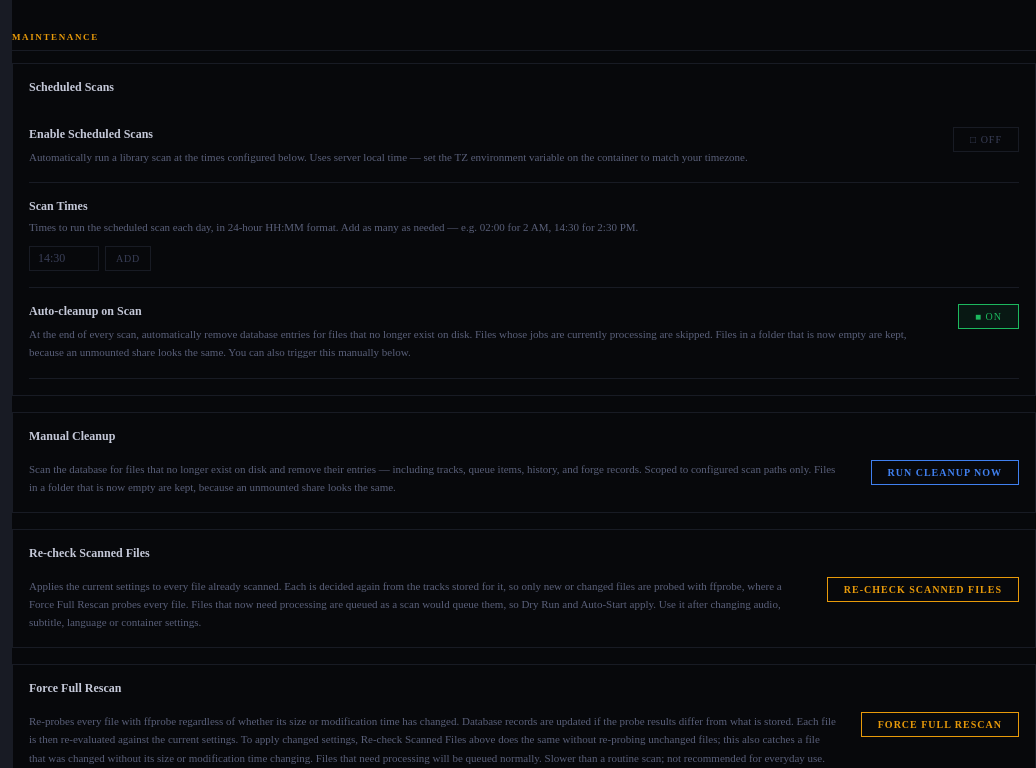
MaintenanceSection — Re-check Scanned Files › starts nothing on the first click
The width and height of the screenshot is (1036, 768).
Click the button "RE-CHECK SCANNED FILES" at coordinates (923, 589), box [827, 577, 1019, 602]
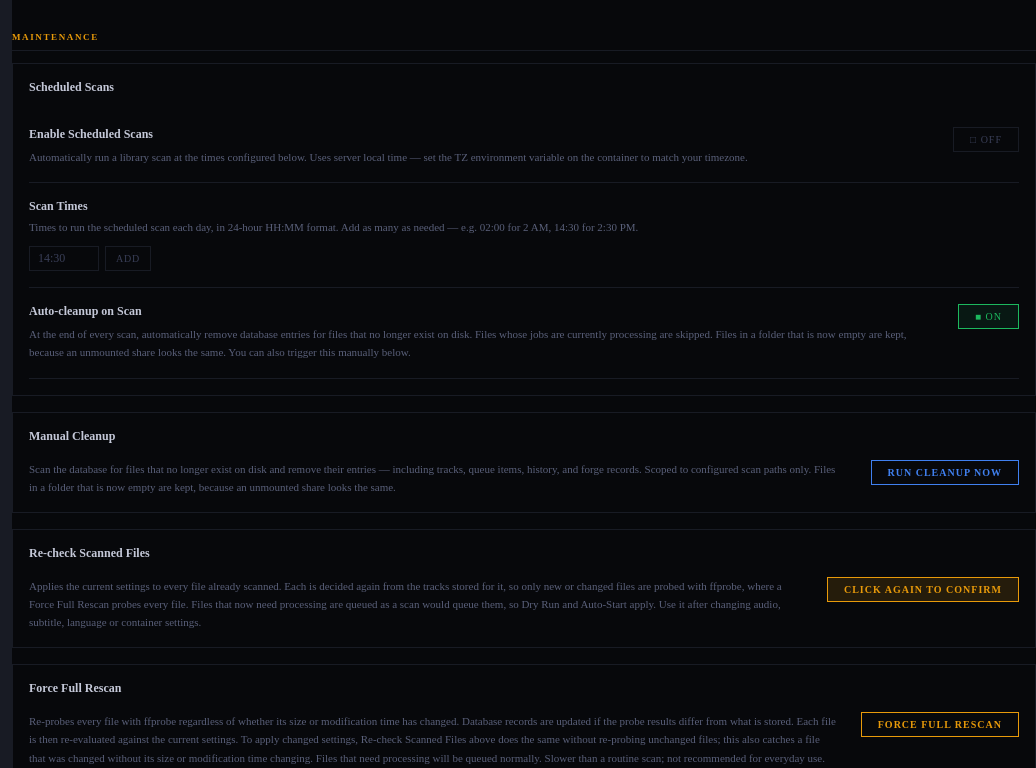
Check: the button "CLICK AGAIN TO CONFIRM" is shown, box [827, 577, 1019, 602]
